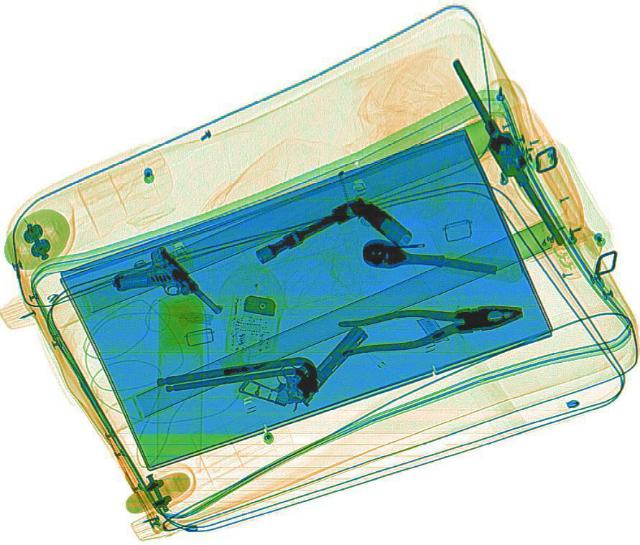Gun: (232, 300, 368, 420), (105, 244, 227, 341)
Pliers: (334, 291, 526, 358)
